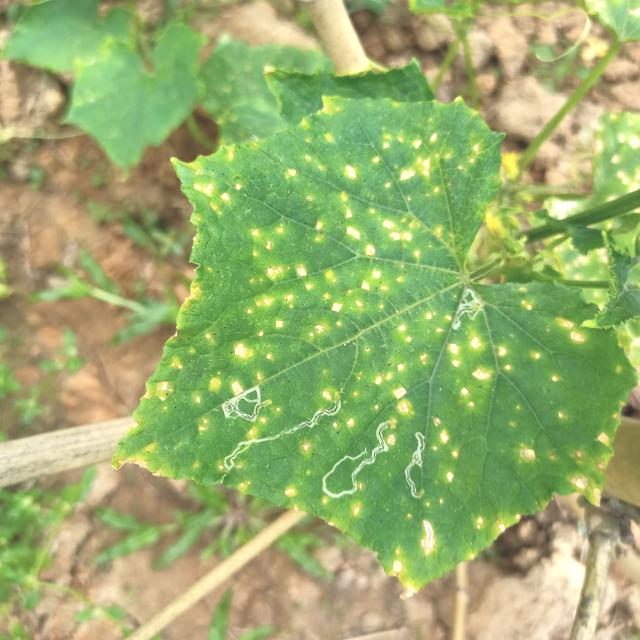disease_cucumber: (153, 296, 607, 580), (130, 120, 494, 415)
